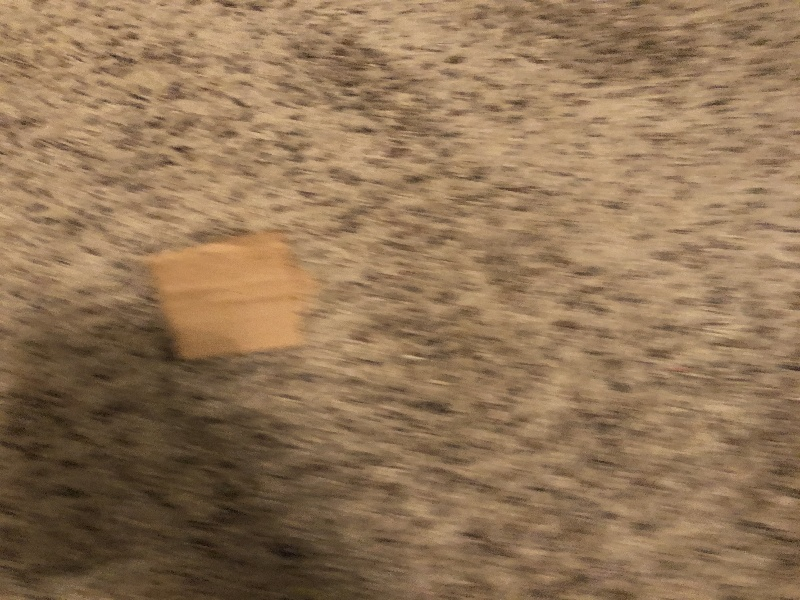cardboard: (146, 223, 325, 367)
